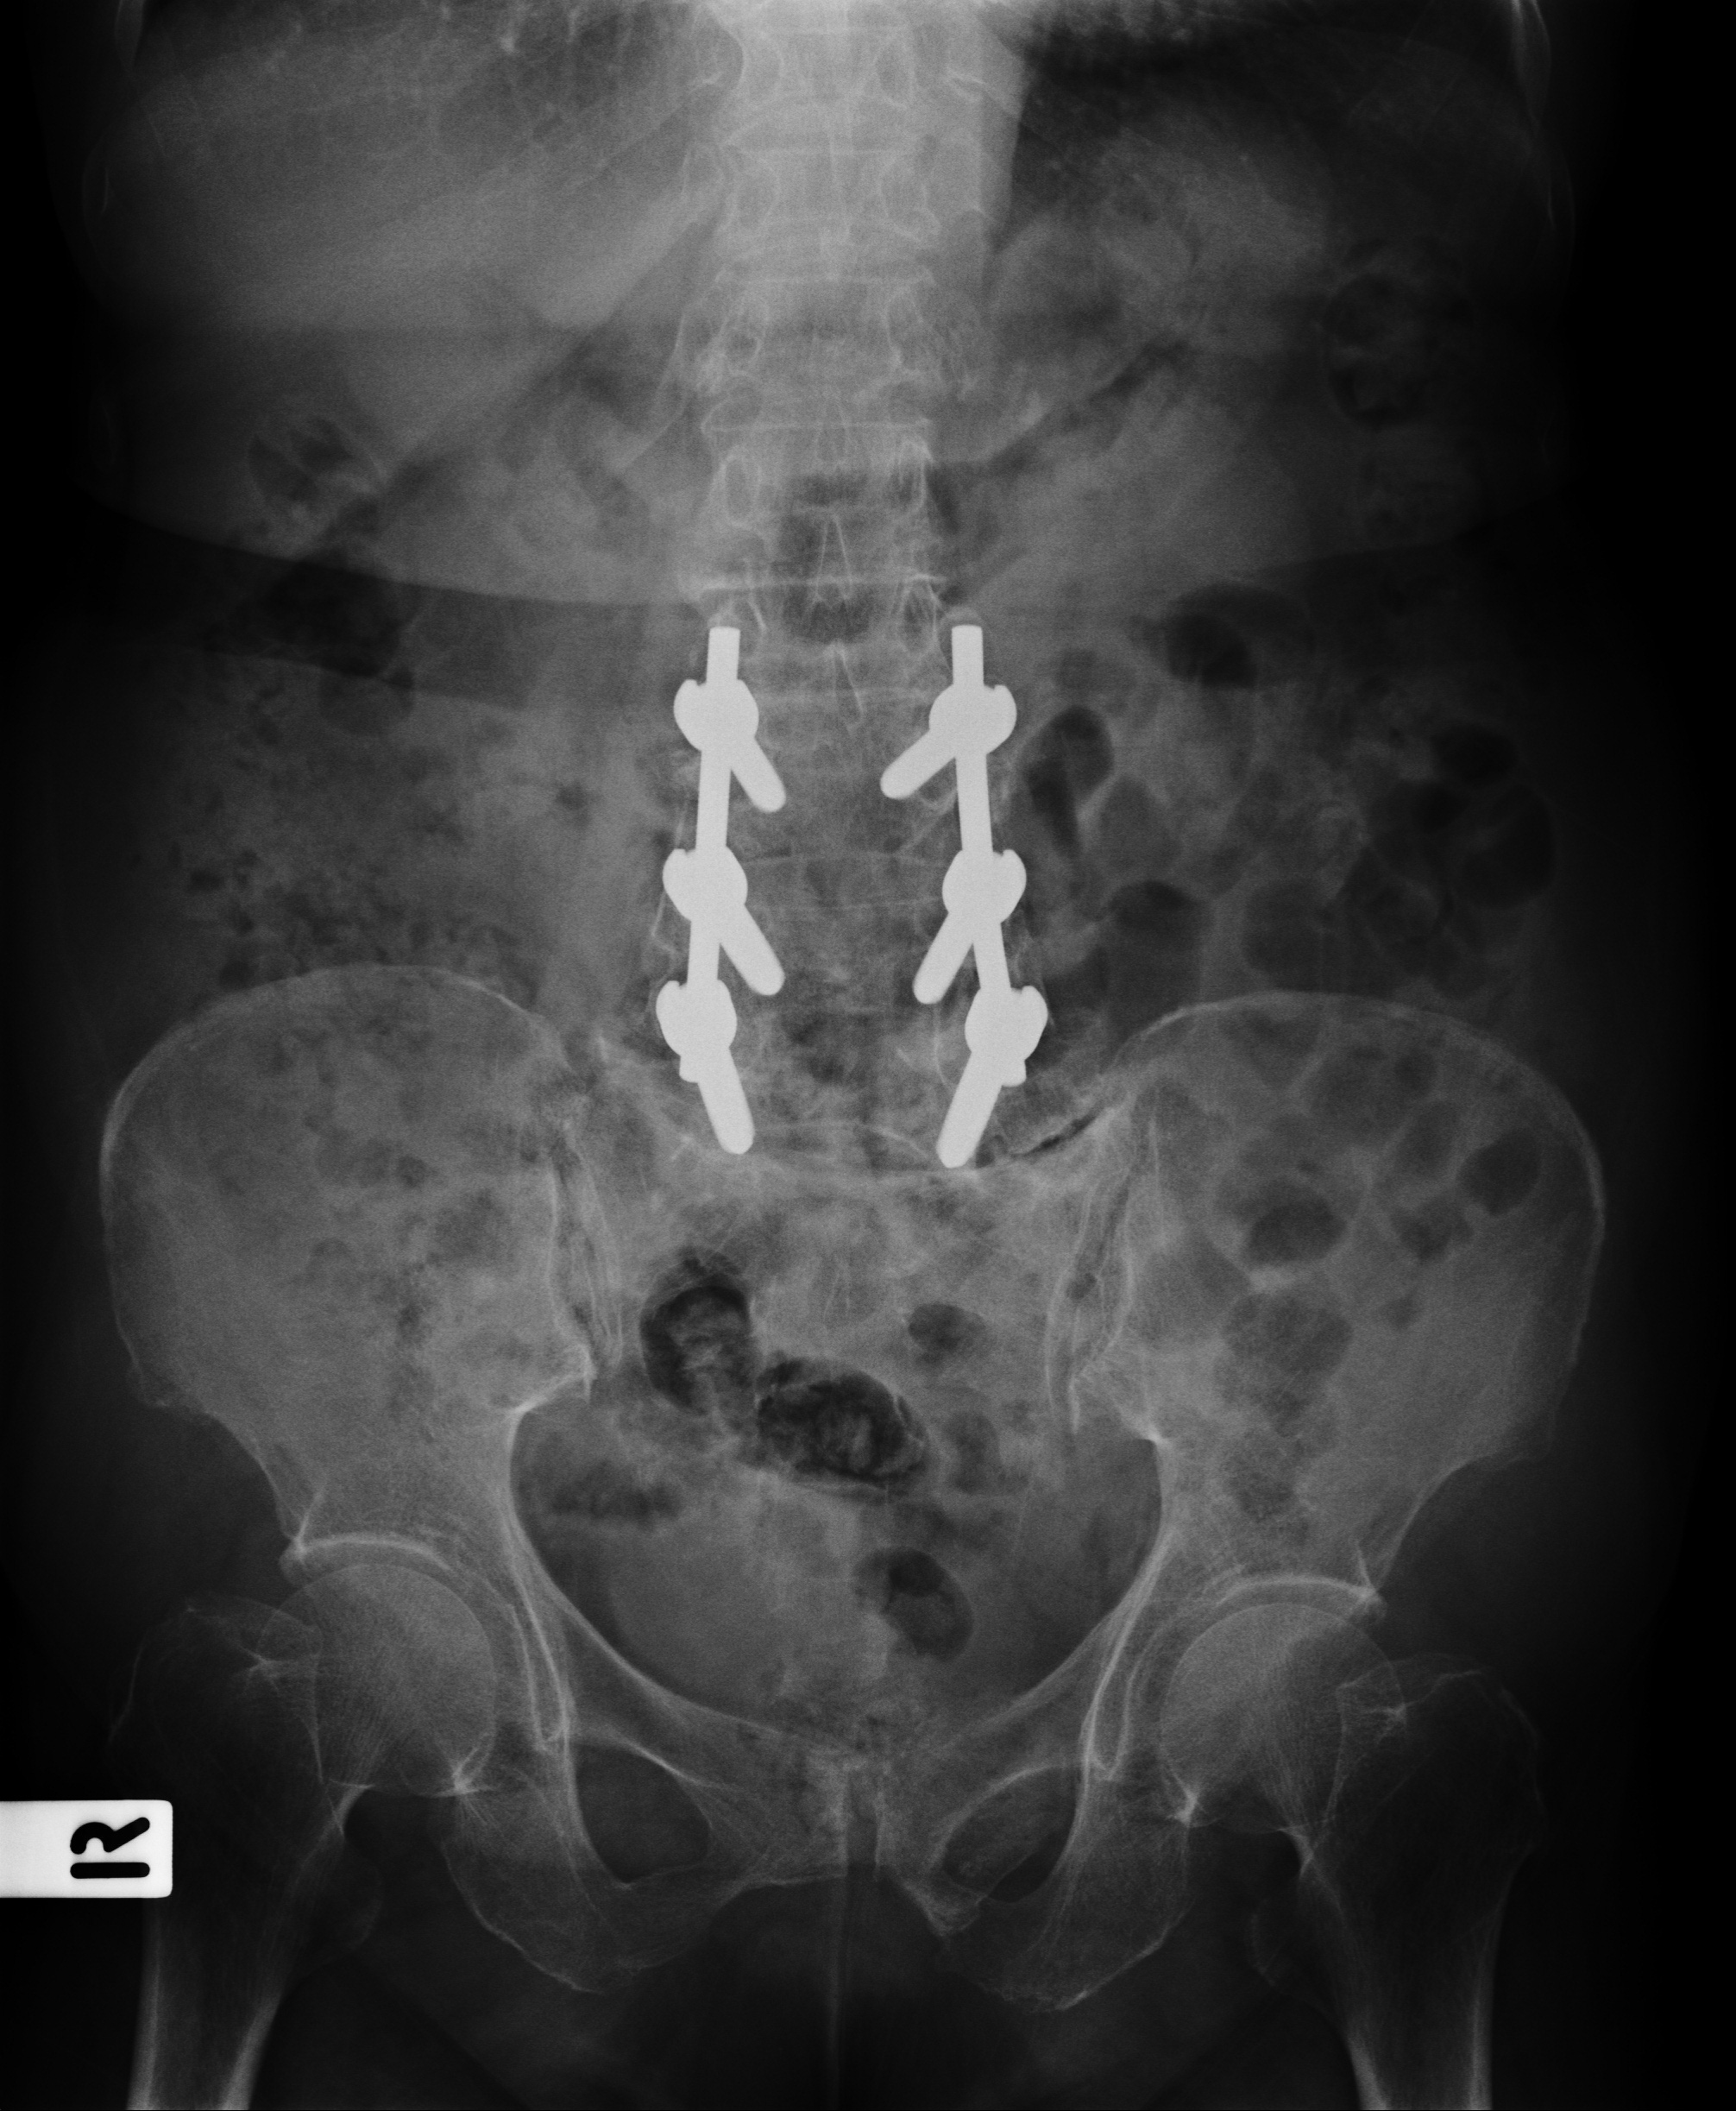lumbar scoliosis: (651, 28, 984, 1306)
